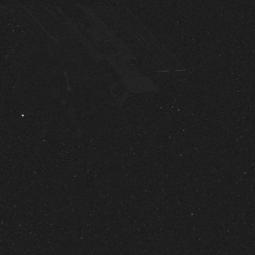proba_2: (14, 9, 206, 103)
